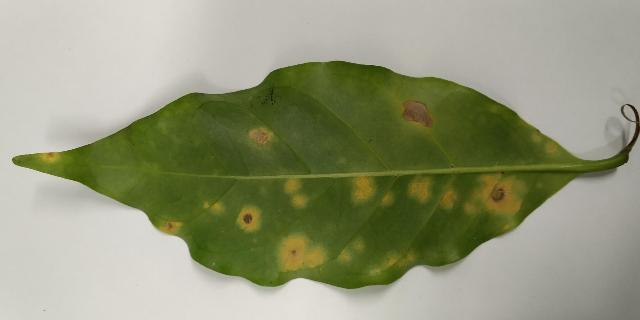cercospora: (467, 172, 529, 235), (277, 234, 327, 273), (367, 249, 421, 278), (398, 99, 436, 133), (408, 174, 431, 202), (352, 176, 376, 202), (237, 206, 261, 231), (285, 179, 306, 207), (248, 128, 275, 148), (439, 182, 457, 210), (33, 152, 65, 167), (159, 221, 181, 235), (203, 202, 223, 212), (338, 250, 351, 262), (381, 192, 392, 205), (355, 241, 362, 250)
